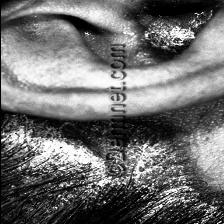Non-Cancerous Skin Condition: (0, 114, 224, 224), (127, 0, 218, 65)
